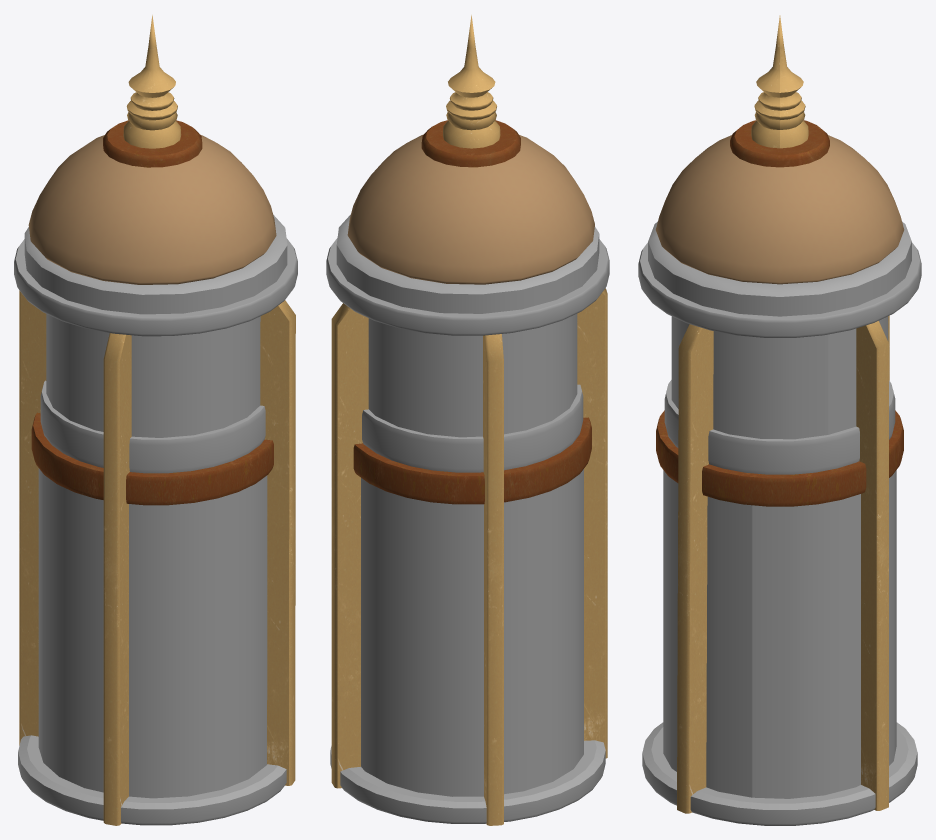
Rendered from Wall_01b.fbx.
The picture shows the model from 3 angles, left to right: view 1: azimuth 30°, elevation 25°; view 2: azimuth 150°, elevation 25°; view 3: azimuth 270°, elevation 25°; orthographic projection.
Parts seen in each view (by area): view 1: Wall_01b; view 2: Wall_01b; view 3: Wall_01b.
Part boxes in pixels (<box>): Wall_01b: <box>14,15,297,825</box>; Wall_01b: <box>326,15,609,825</box>; Wall_01b: <box>638,15,921,825</box>.
Bounding box in the file's own units: 158 × 465 × 158.
4 materials, 3 textured.
